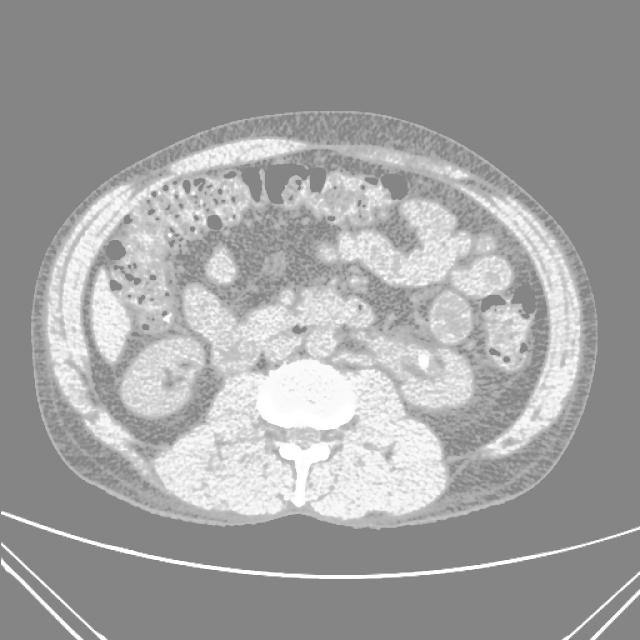STONE: (118, 145, 532, 381)
